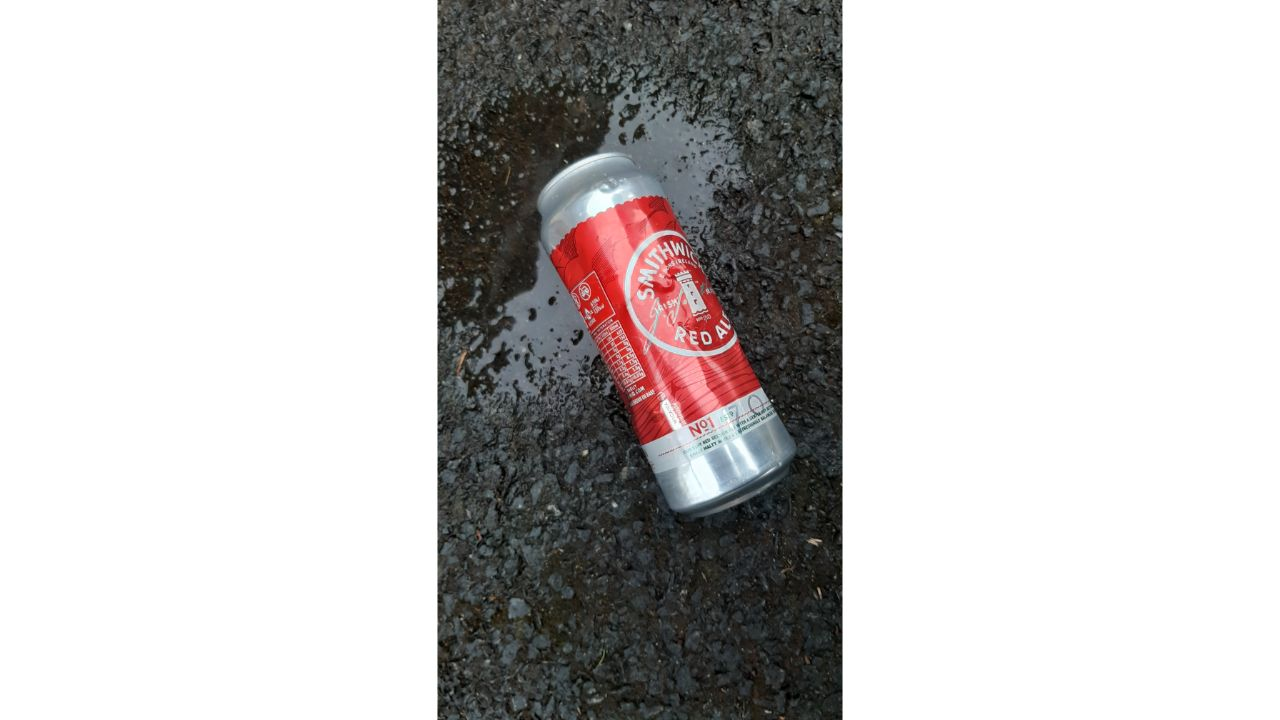Can: (530, 149, 795, 524)
